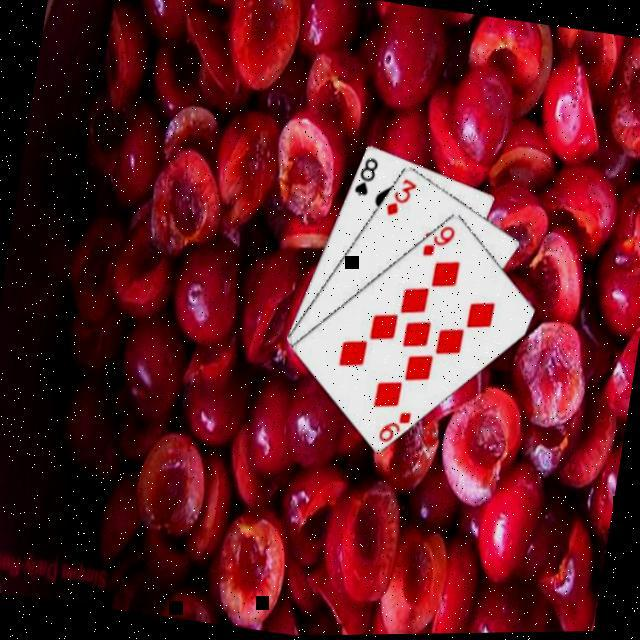3D: (382, 175, 421, 224)
8S: (351, 154, 384, 203)
9D: (374, 407, 416, 450), (419, 222, 459, 265)
